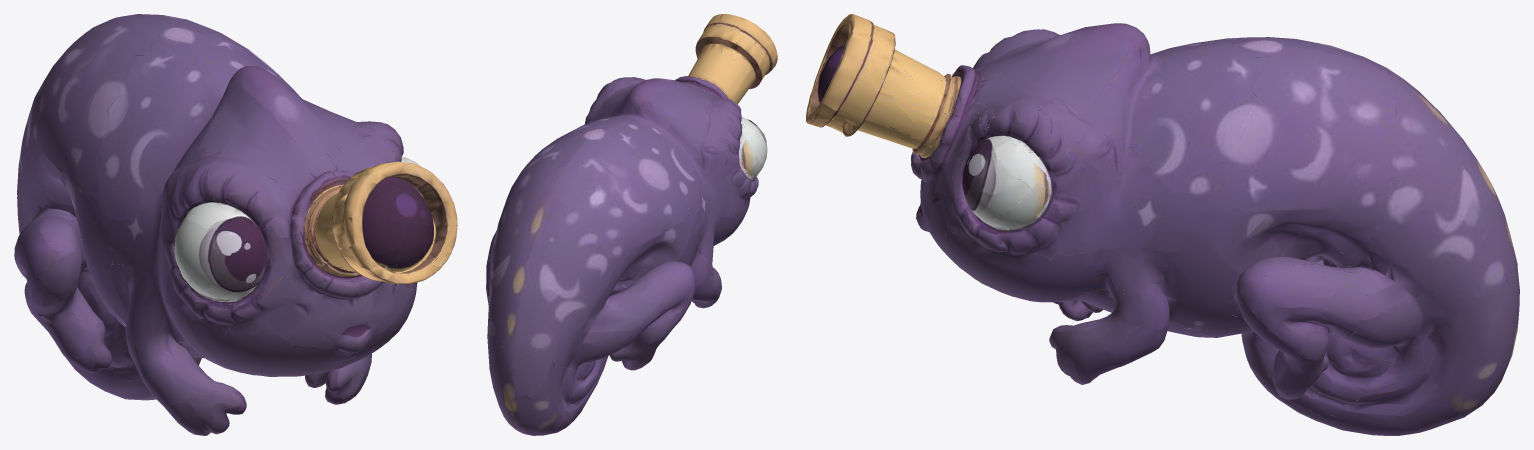
3 views of the same model, side by side, from view 1: azimuth 30°, elevation 25°; view 2: azimuth 150°, elevation 25°; view 3: azimuth 270°, elevation 25° (orthographic). The views are drawn at different scales.
Visible parts, largest first — view 1: Mesh_0; view 2: Mesh_0; view 3: Mesh_0.
Boxes of the visible parts, x1,y1,x2,y2 form: Mesh_0: (14, 14, 457, 435); Mesh_0: (486, 14, 777, 435); Mesh_0: (806, 14, 1519, 435).
Size of the model in its own units: 0.8935 by 1.2 by 1.9.
Materials: 1 (1 with a texture image).
